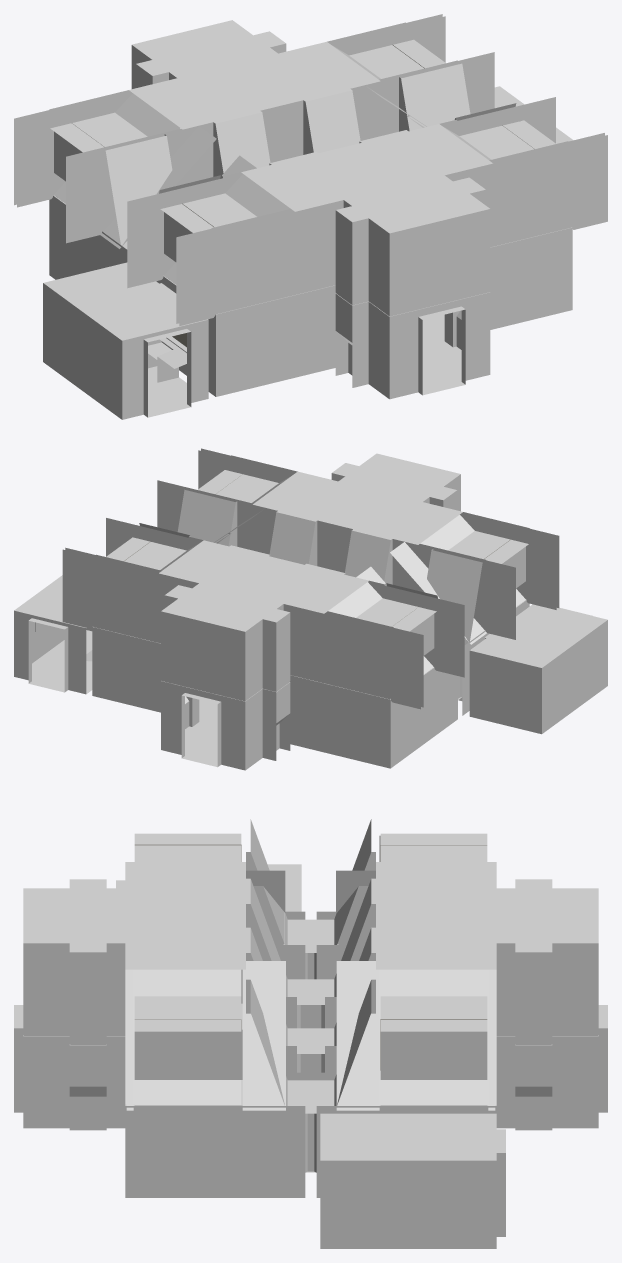
File: room2_CheckpointLczEz.fbx
3 renders of one model, top to bottom at view 1: azimuth 30°, elevation 25°; view 2: azimuth 150°, elevation 25°; view 3: azimuth 270°, elevation 25°, orthographic. The views are drawn at different scales.
Visible parts, largest first — view 1: room2_CheckpointLczEz; view 2: room2_CheckpointLczEz; view 3: room2_CheckpointLczEz.
Boxes of the visible parts, x1=… form: room2_CheckpointLczEz: x1=14, y1=14, x2=607, y2=419; room2_CheckpointLczEz: x1=14, y1=448, x2=607, y2=770; room2_CheckpointLczEz: x1=14, y1=819, x2=607, y2=1248.
Size of the model in its own units: 24.16 by 7.04 by 20.48.
